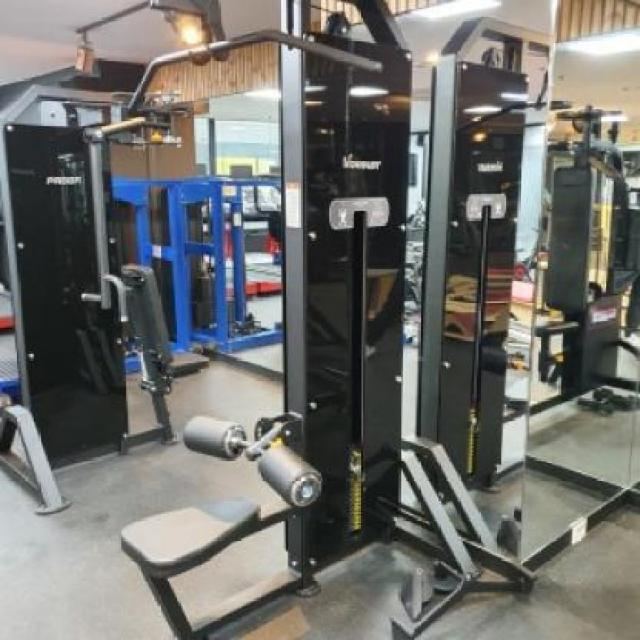Lat Pull Down: (0, 0, 525, 640)
